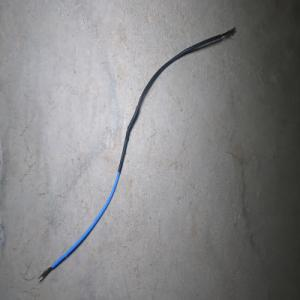Wire: (38, 27, 236, 282)
